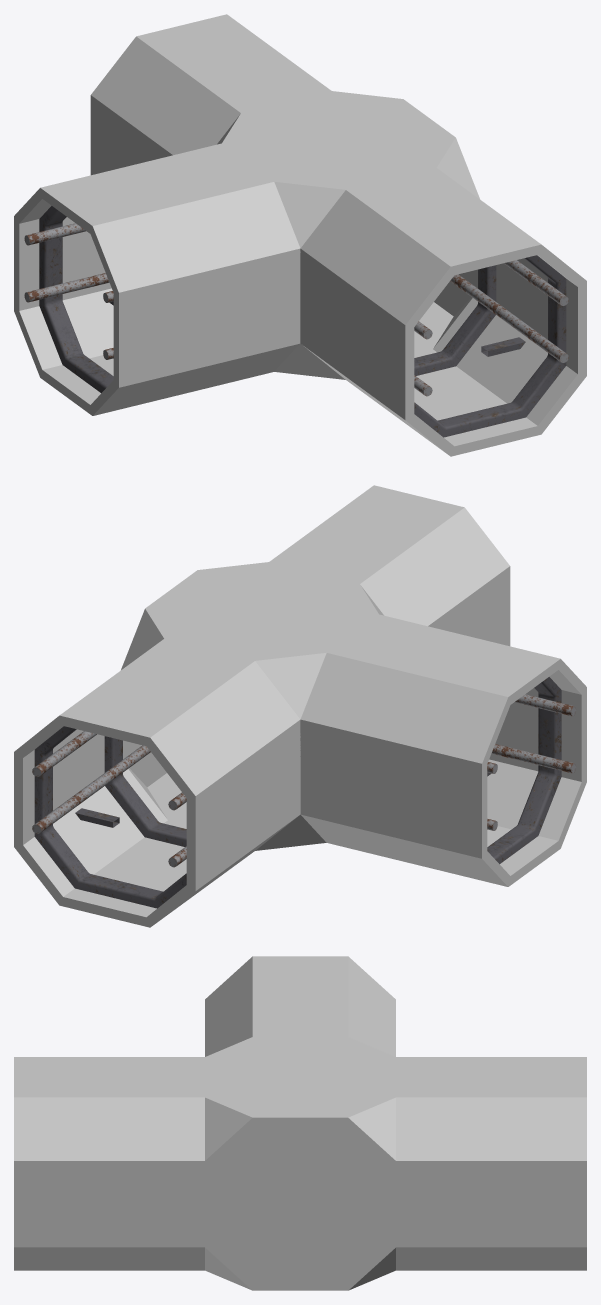
The model's file is ProcGen_TTurnNoPlatform.fbx.
The picture shows the model from 3 angles, top to bottom: view 1: azimuth 30°, elevation 25°; view 2: azimuth 150°, elevation 25°; view 3: azimuth 270°, elevation 25°; orthographic projection. The views are drawn at different scales.
Parts seen in each view (by area): view 1: Ceiling.001; view 2: Ceiling.001; view 3: Ceiling.001.
Boxes of the visible parts, x1=… form: Ceiling.001: x1=14, y1=14, x2=586, y2=456; Ceiling.001: x1=14, y1=485, x2=586, y2=927; Ceiling.001: x1=14, y1=956, x2=586, y2=1290.
Size of the model in its own units: 1000 by 500 by 1500.
